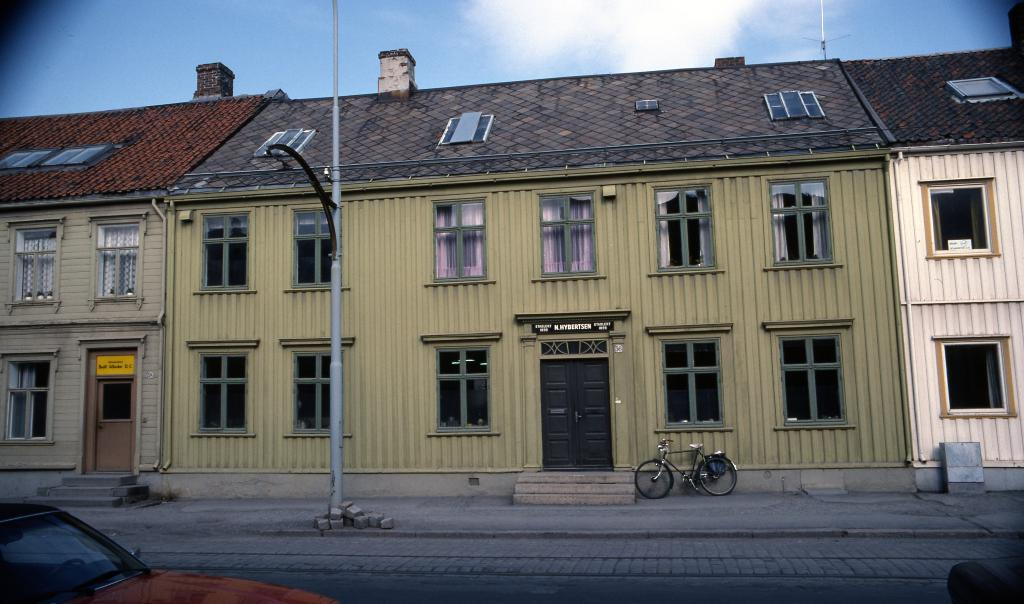Car: (0, 500, 341, 600)
